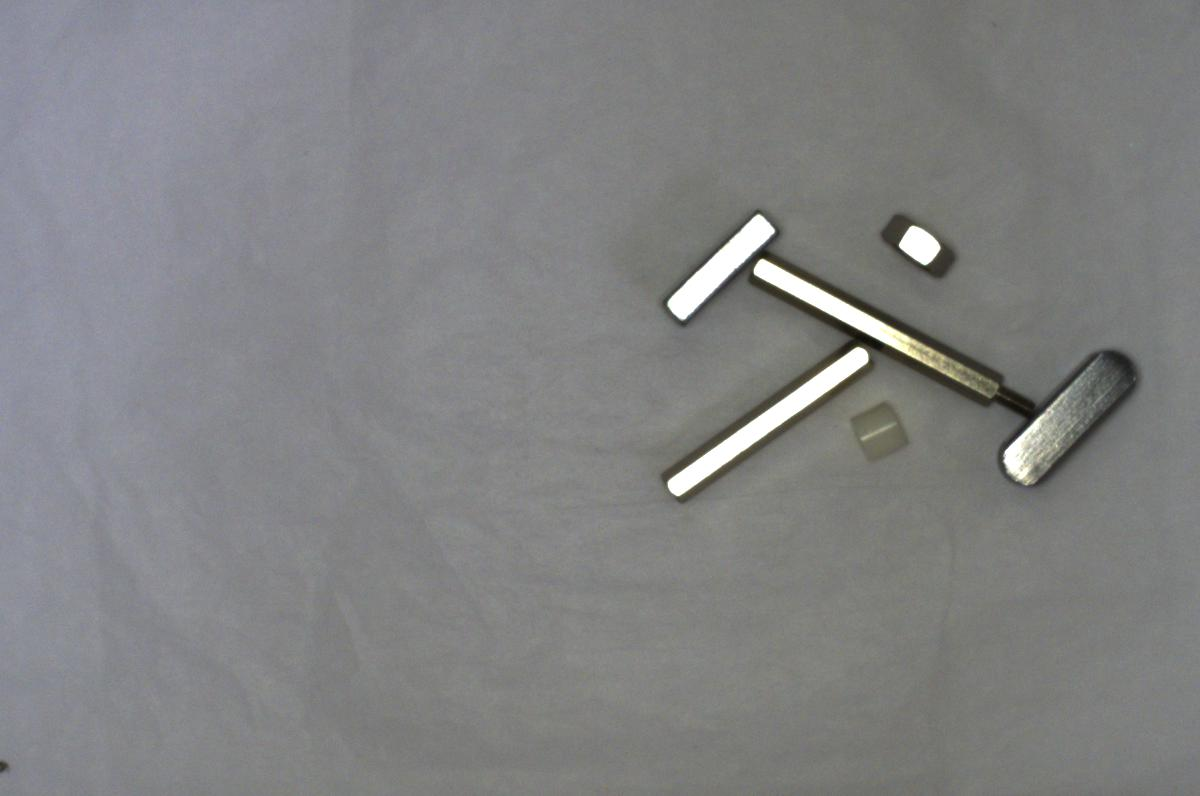Double hexagonal column: (666, 343, 870, 508)
Hexagon nut: (882, 214, 961, 282)
Hexagonal steel column: (751, 252, 1040, 416)
Keybar: (998, 350, 1145, 487)
Plastic cushion pillar: (842, 392, 911, 458)
Rectangular nut: (668, 207, 779, 322)
